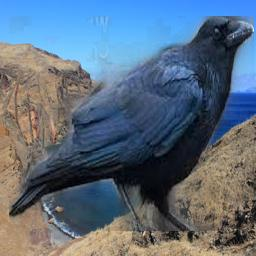Crow: (10, 17, 255, 232)
